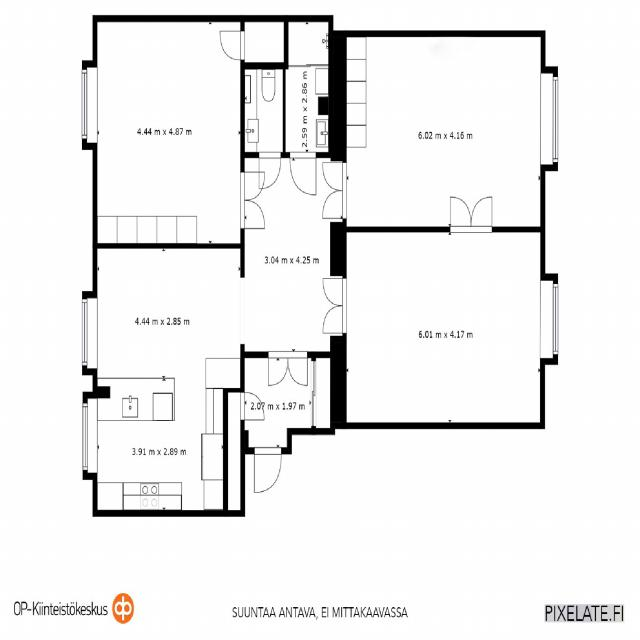door: (254, 448, 281, 491), (290, 153, 316, 195), (259, 152, 280, 188), (219, 31, 245, 60), (450, 197, 471, 232), (471, 197, 492, 232), (240, 200, 265, 228), (240, 172, 265, 200), (322, 190, 347, 218), (322, 163, 347, 191), (268, 352, 288, 386), (288, 352, 307, 386), (323, 278, 346, 306), (323, 306, 346, 333)
